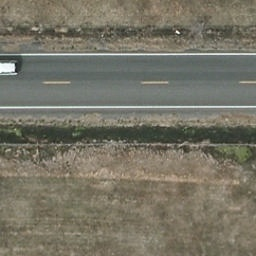car: (0, 59, 22, 78)
